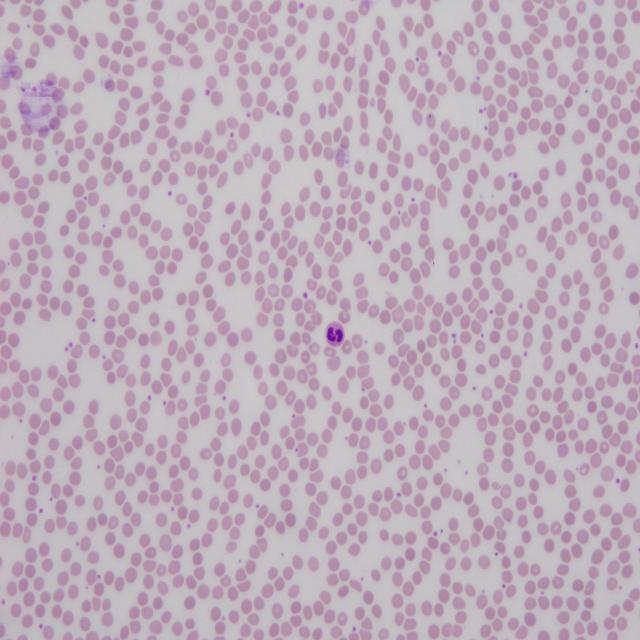cell: (325, 322, 345, 347)
